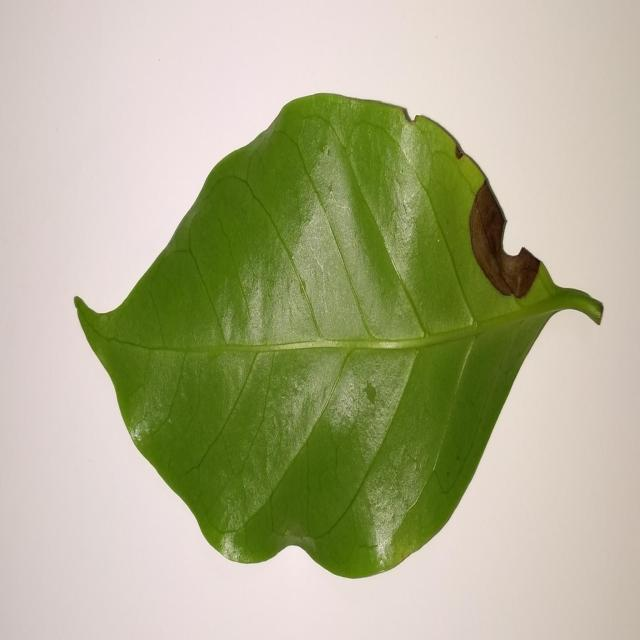Enfermedad-Antracnosis: (73, 92, 604, 581)
